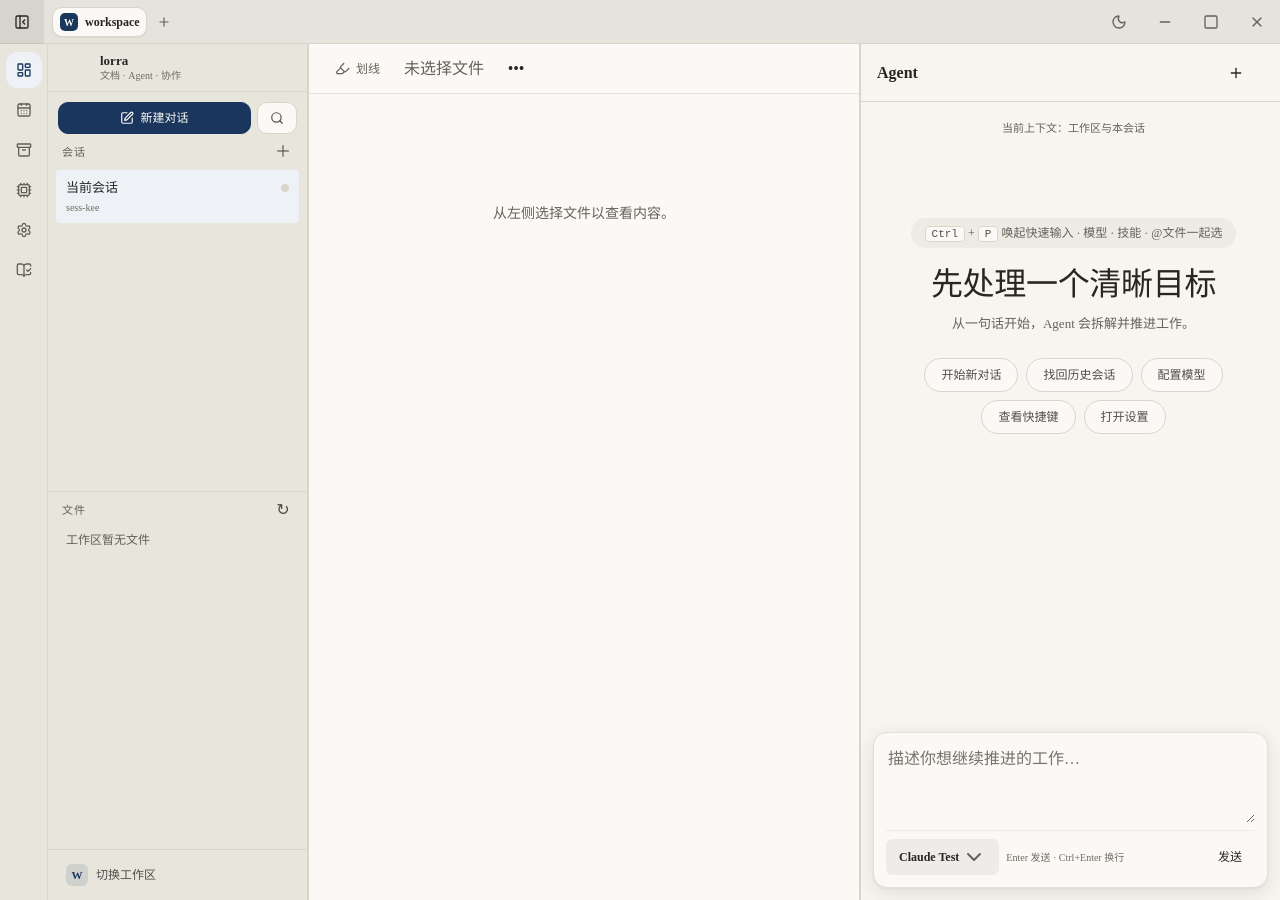
Test case: Requirement: 今日页导航(app-shell spec) › Scenario 离开今日页回到工作台 / 页面切换状态保持:会话不重建、三栏布局完整恢复
Expected: the text box named "向 Agent 提问" is shown, x1=886 y1=745 x2=1255 y2=823
Step 1. Click the button named "今日" → x=24, y=110, box x1=6 y1=92 x2=42 y2=128
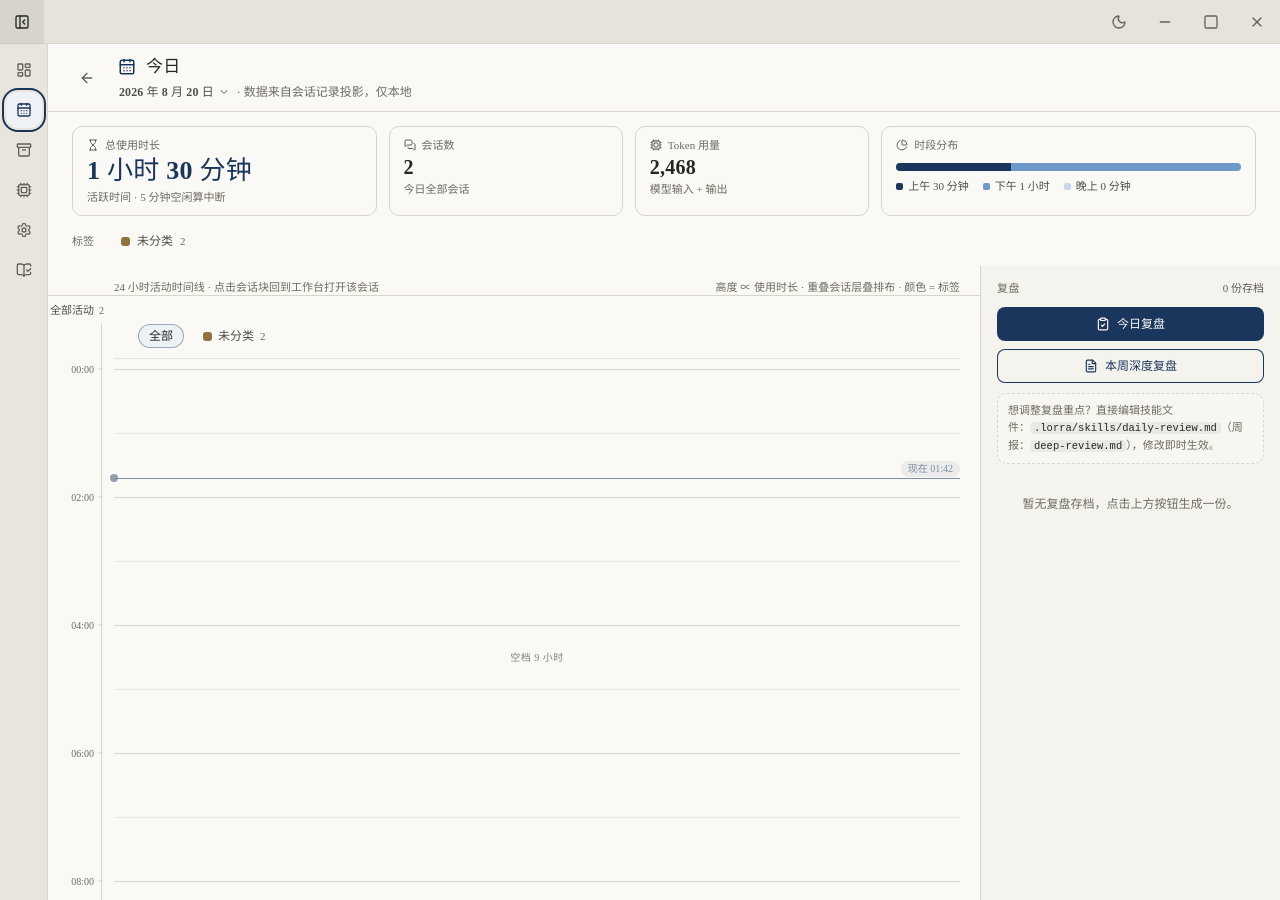
Expected: the element with test id "today-page" is shown
Step 2. Click the button named "工作台" → x=24, y=70, box x1=6 y1=52 x2=42 y2=88
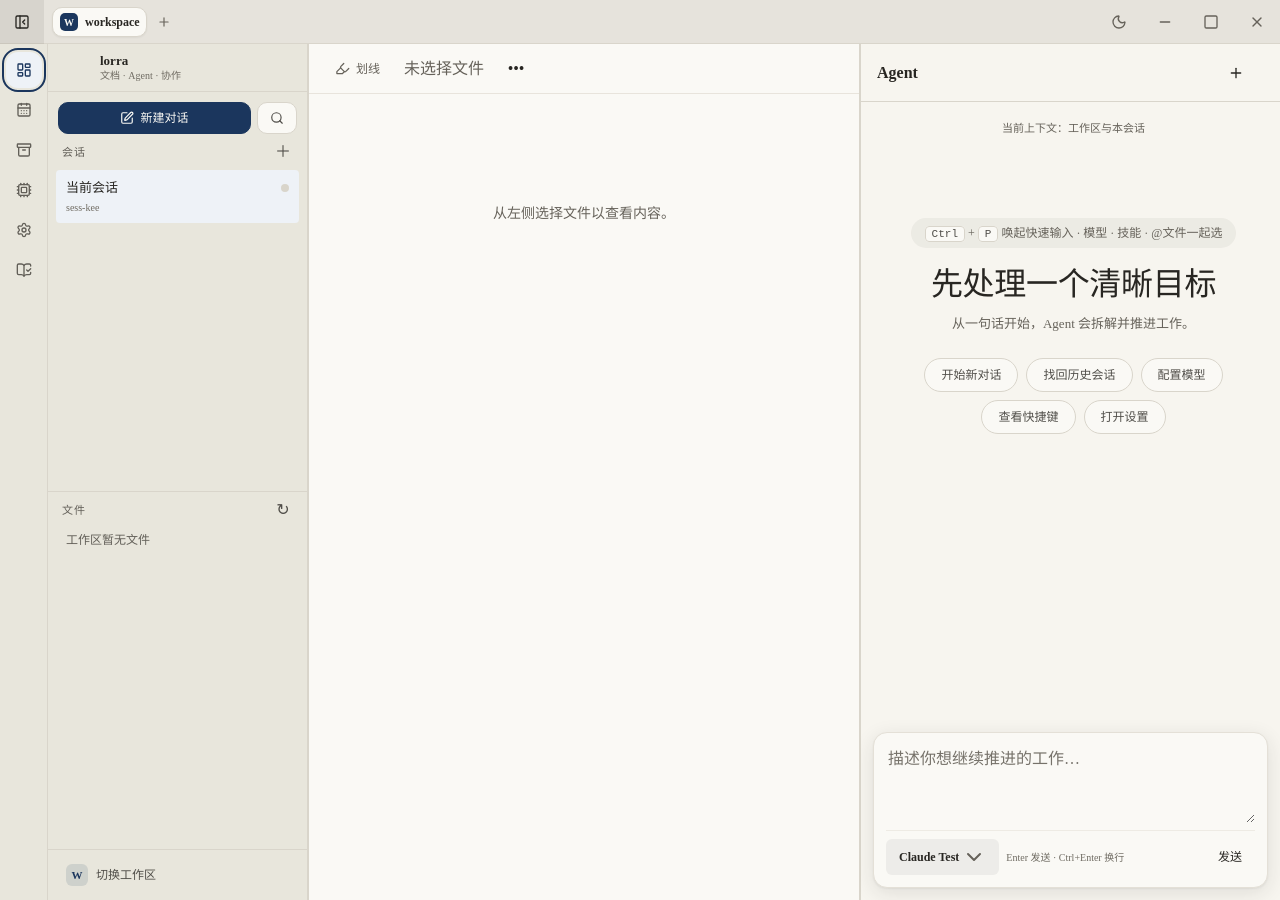
Expected: the element named "Agent 对话" is shown, x1=860 y1=44 x2=1279 y2=899
Expected: the text box named "向 Agent 提问" is shown, x1=886 y1=745 x2=1255 y2=823
Expected: the element named "文件树" is shown, x1=66 y1=533 x2=150 y2=547
